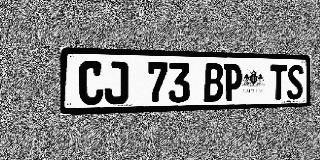3: (169, 62, 190, 103)
7: (146, 62, 168, 104)
B: (204, 63, 223, 102)
C: (78, 61, 103, 105)
J: (104, 61, 128, 105)
P: (224, 63, 242, 102)
S: (287, 65, 303, 100)
T: (270, 64, 287, 100)
